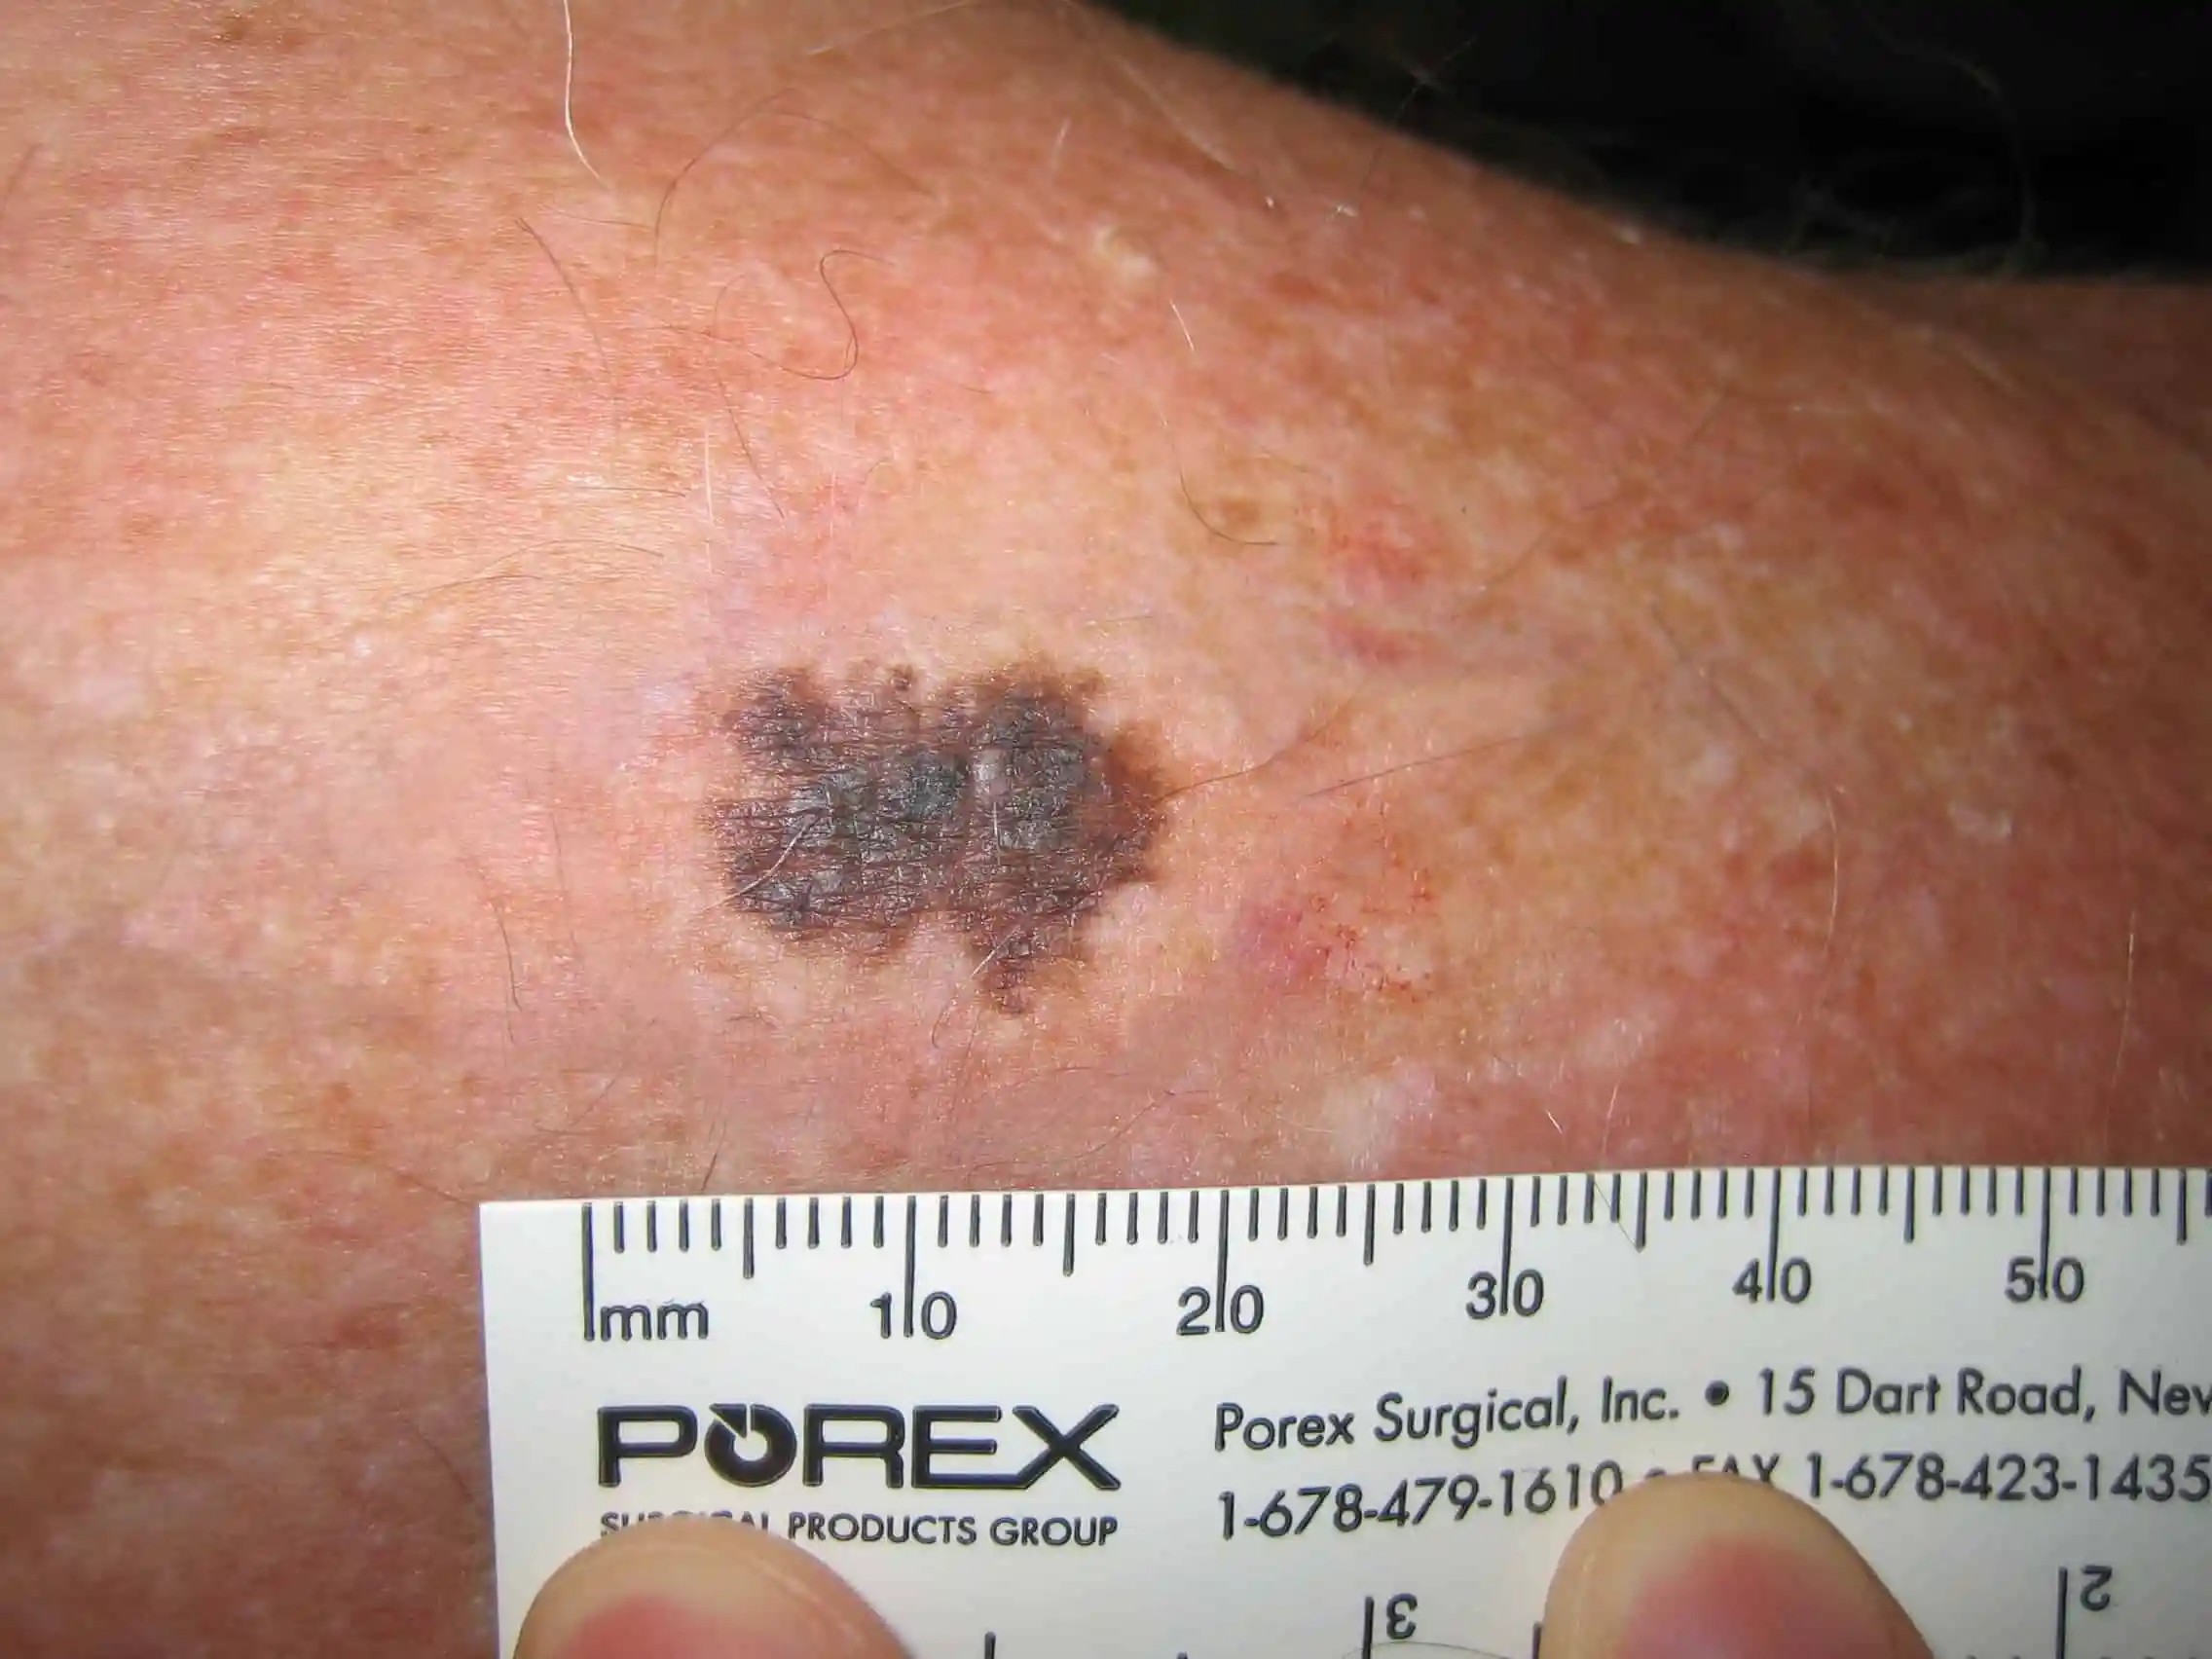Melanoma: (709, 657, 1183, 1021)
